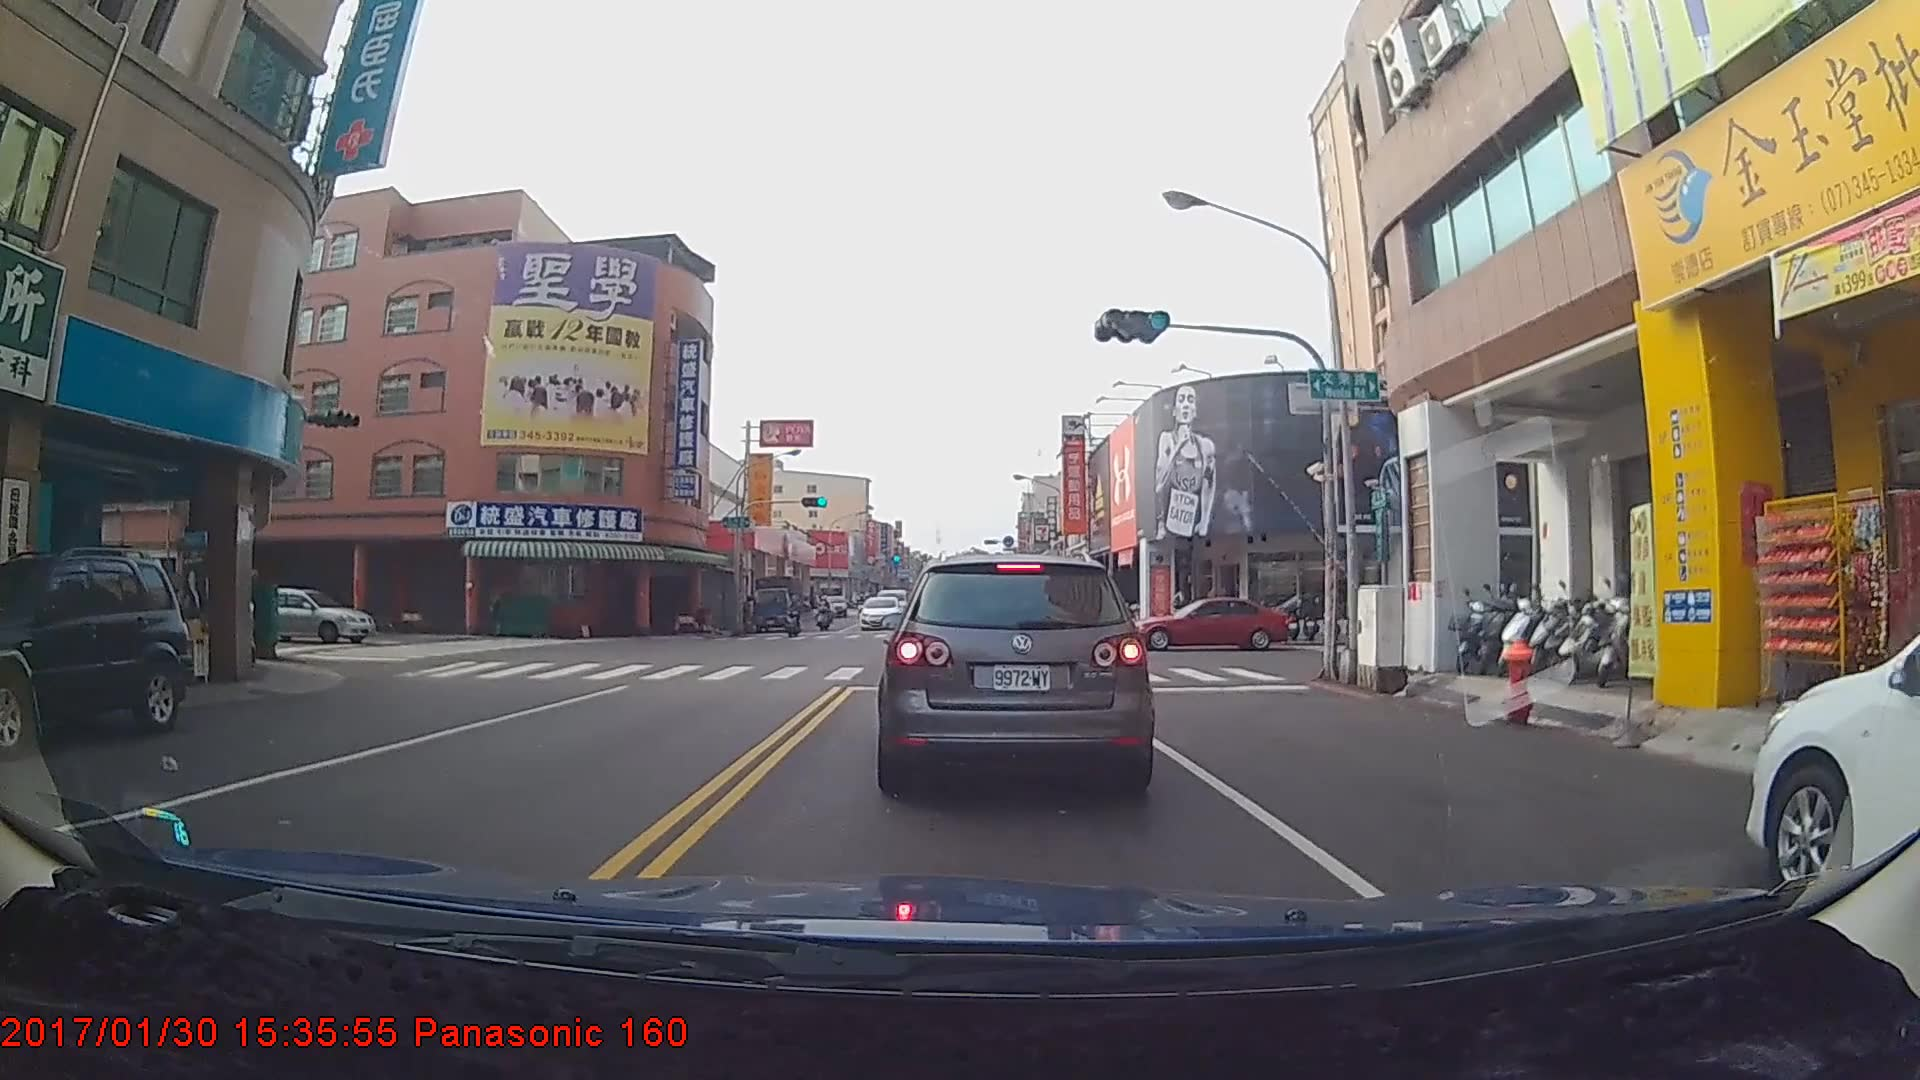rider: (778, 594, 809, 637), (816, 594, 840, 634)
vehicle: (1748, 534, 1920, 947), (883, 548, 1150, 795), (0, 550, 185, 753), (1129, 593, 1294, 649), (226, 586, 378, 644), (749, 574, 803, 631), (856, 592, 902, 629)
